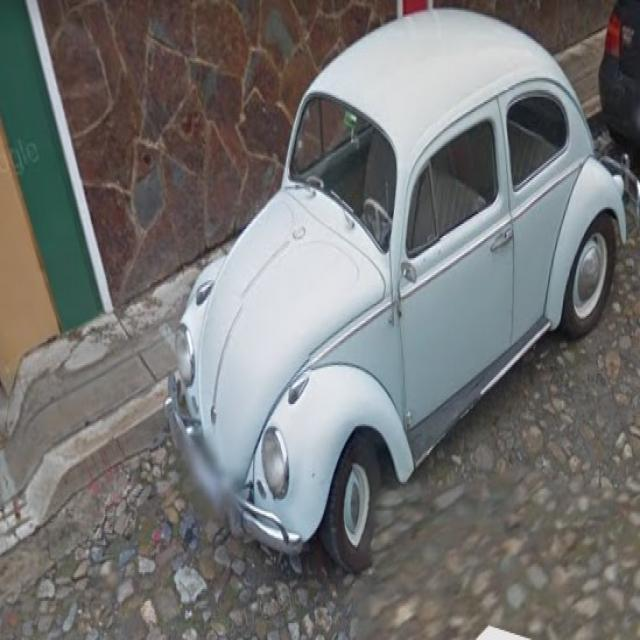cars: (174, 10, 633, 574)
